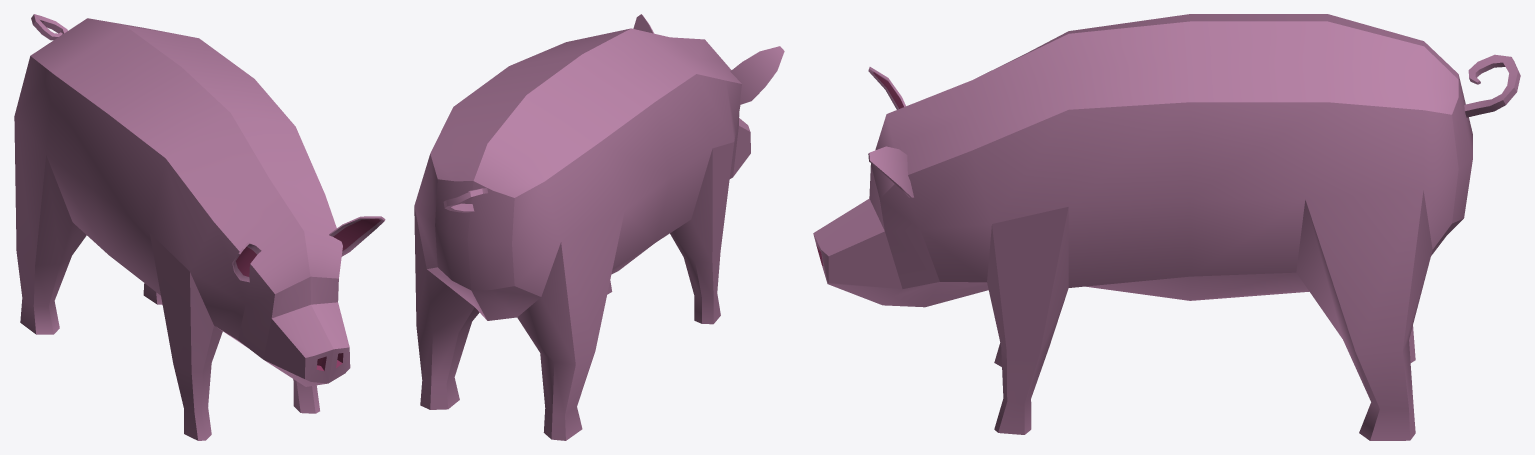
Rendered from Pig.fbx.
3 views of the same model, side by side, from view 1: azimuth 30°, elevation 25°; view 2: azimuth 150°, elevation 25°; view 3: azimuth 270°, elevation 25° (orthographic). The views are drawn at different scales.
Parts seen in each view (by area): view 1: pCube6, pCube2, pCube7, pCube3; view 2: pCube6, pCube7, pCube3; view 3: pCube6, pCube3, pCube2.
Boxes of the visible parts, left/top/right/bottom form: pCube6: left=14, top=18, right=350, bottom=440; pCube2: left=329, top=216, right=385, bottom=256; pCube7: left=232, top=242, right=261, bottom=282; pCube3: left=31, top=14, right=67, bottom=40; pCube6: left=414, top=28, right=750, bottom=440; pCube7: left=730, top=46, right=784, bottom=104; pCube3: left=443, top=188, right=487, bottom=212; pCube6: left=813, top=14, right=1472, bottom=440; pCube3: left=1464, top=54, right=1520, bottom=117; pCube2: left=868, top=146, right=913, bottom=197.
Size of the model in its own units: 27.28 by 44.33 by 75.73.
